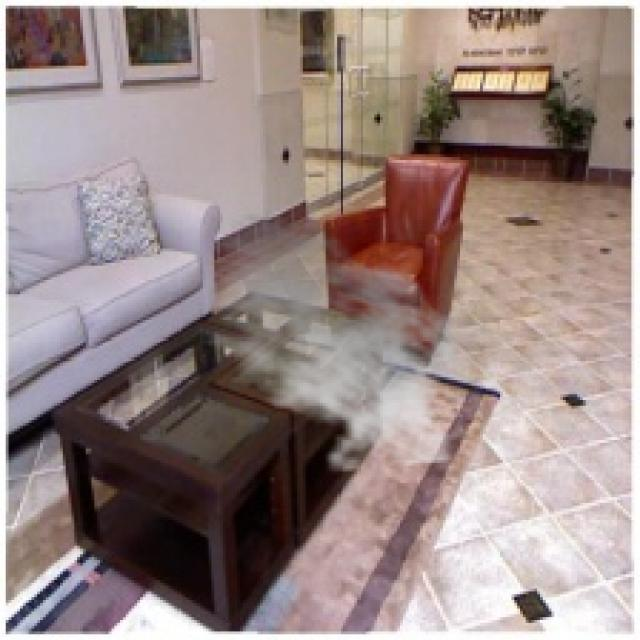Smoke: (188, 212, 468, 474)
